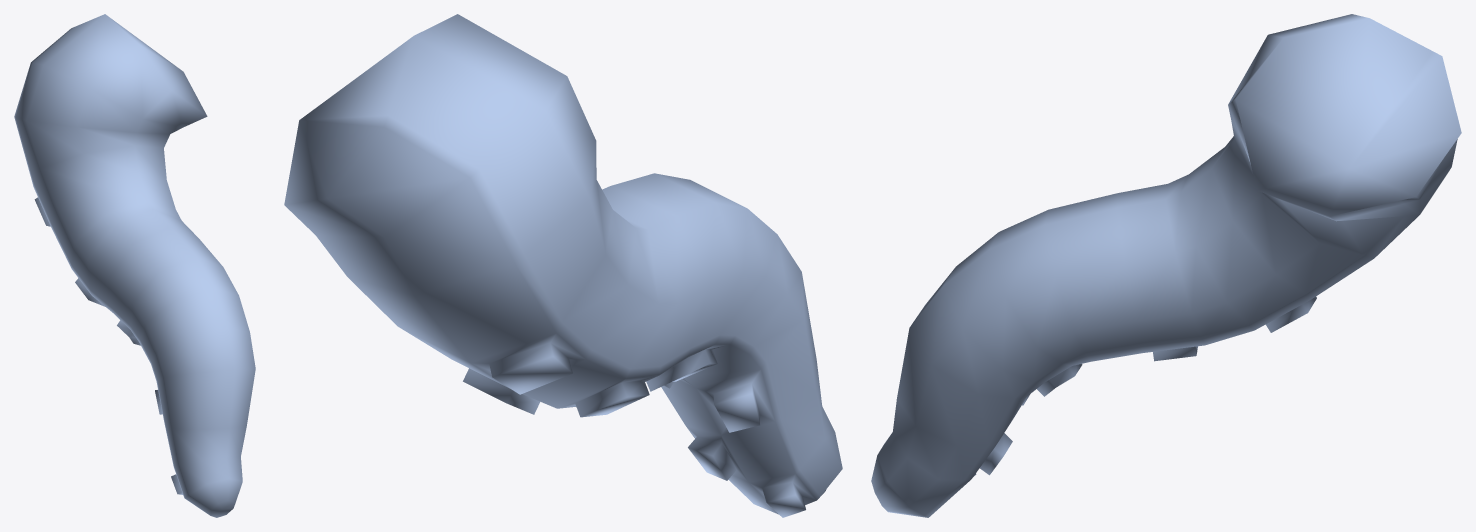
File: tentacleArm.fbx
3 views of the same model, side by side, from view 1: azimuth 30°, elevation 25°; view 2: azimuth 150°, elevation 25°; view 3: azimuth 270°, elevation 25° (orthographic). The views are drawn at different scales.
Visible parts, largest first — view 1: tentacle; view 2: tentacle; view 3: tentacle.
Part boxes in pixels (box(x1,y1,x2,y2)): tentacle: box(14, 14, 255, 517); tentacle: box(284, 14, 842, 517); tentacle: box(871, 14, 1461, 517).
Bounding box in the file's own units: 28.82 × 63.27 × 64.06.
